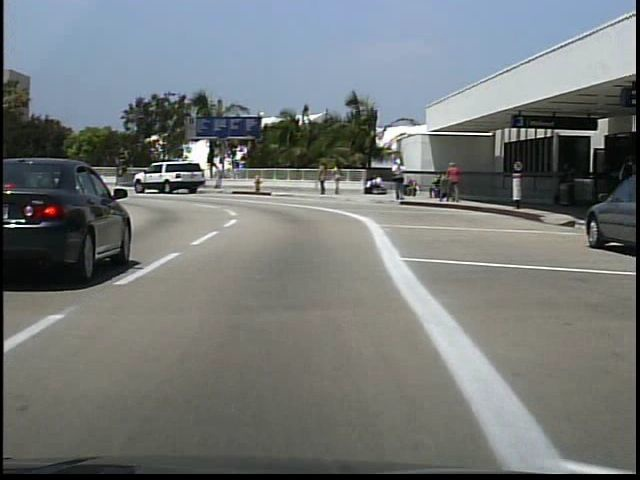person: (606, 152, 636, 226), (393, 157, 409, 206), (447, 160, 464, 203), (334, 162, 347, 200), (319, 160, 331, 197), (364, 176, 385, 196)
